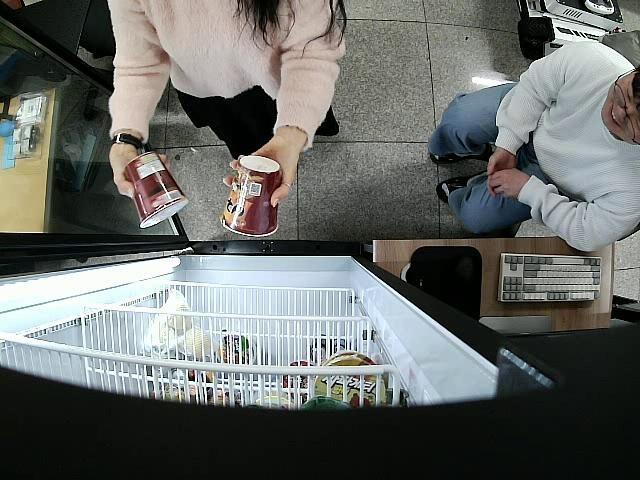06_nuguri_S: (123, 150, 188, 228), (218, 156, 279, 237)
